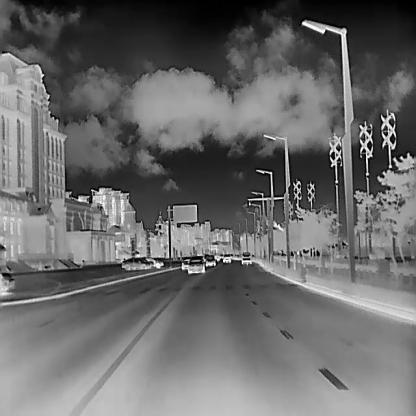car: (120, 256, 148, 269), (186, 254, 205, 273), (143, 255, 163, 267), (240, 251, 252, 264), (180, 255, 190, 270), (204, 255, 215, 266), (221, 252, 230, 262), (212, 253, 220, 261), (218, 253, 224, 258)
